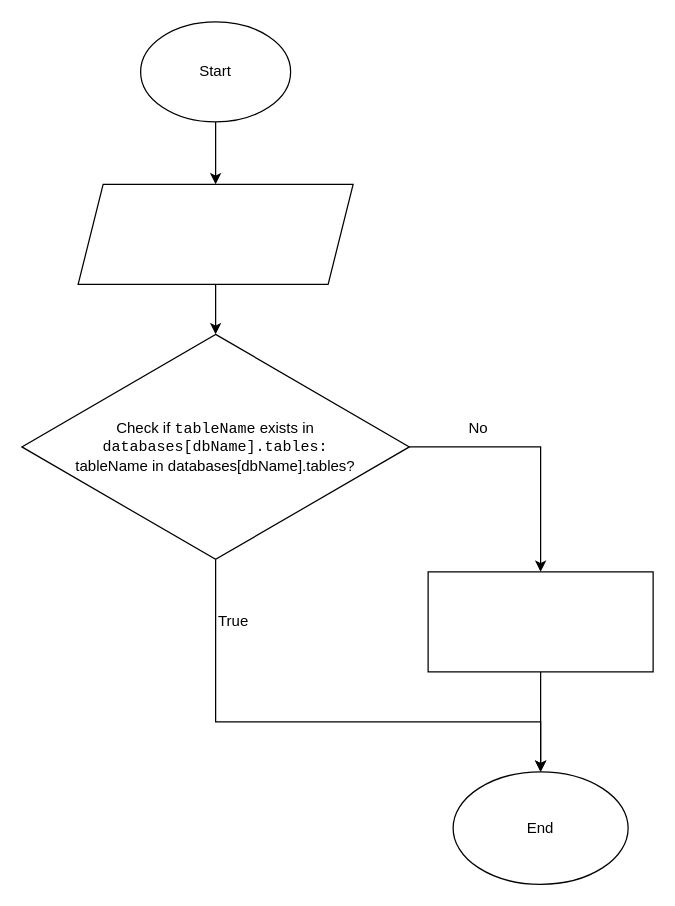
Image size: 675x906. Some labels were removed from this diagram. The box of each missing label's shape, as (x1, y1, x2, y2) in pixels:
Add tableName , columns , and empty rows to databases[dbName].tables: (427, 571, 653, 672)
Input dbName , tableName , columns: (77, 183, 353, 284)
